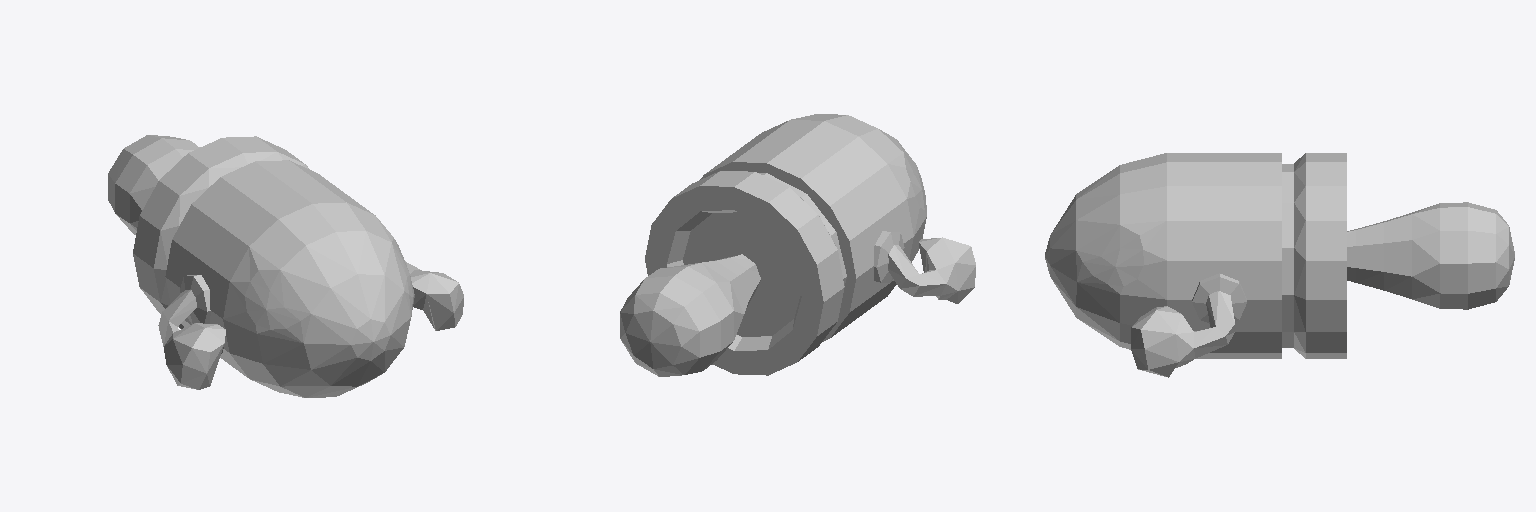
Rendered from Tanooki Bill.obj.
3 views of the same model, side by side, from view 1: azimuth 30°, elevation 25°; view 2: azimuth 150°, elevation 25°; view 3: azimuth 270°, elevation 25° (orthographic).
Size of the model in its own units: 153 by 97.41 by 222.